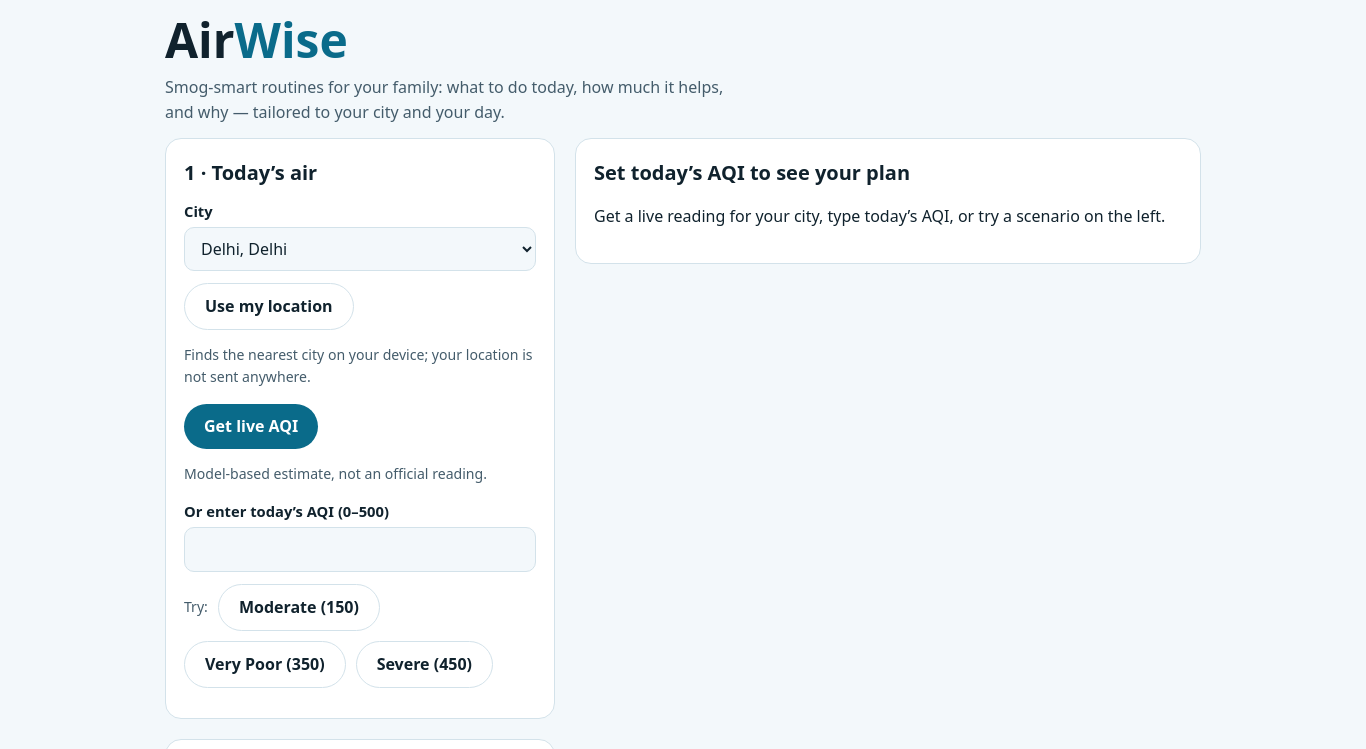
Test: live air data › loads a live reading and fills in today’s AQI
Click the button "Get live AQI" at [251, 426], box [184,404,318,448]
(page scrolled)
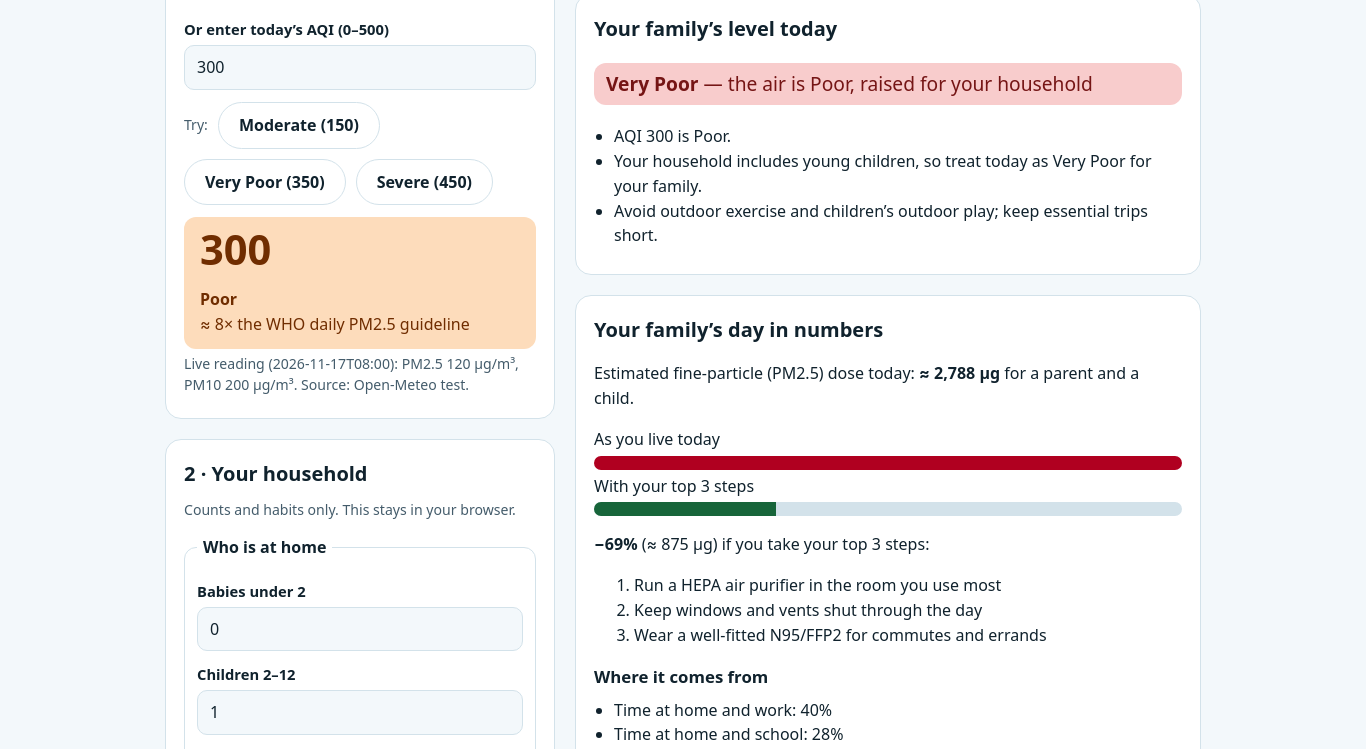
Now the number field labelled "Or enter today’s AQI (0–500)" holds "300", box [184,45,536,90]
Now the text "Open-Meteo test" is shown, box [354,375,465,394]
